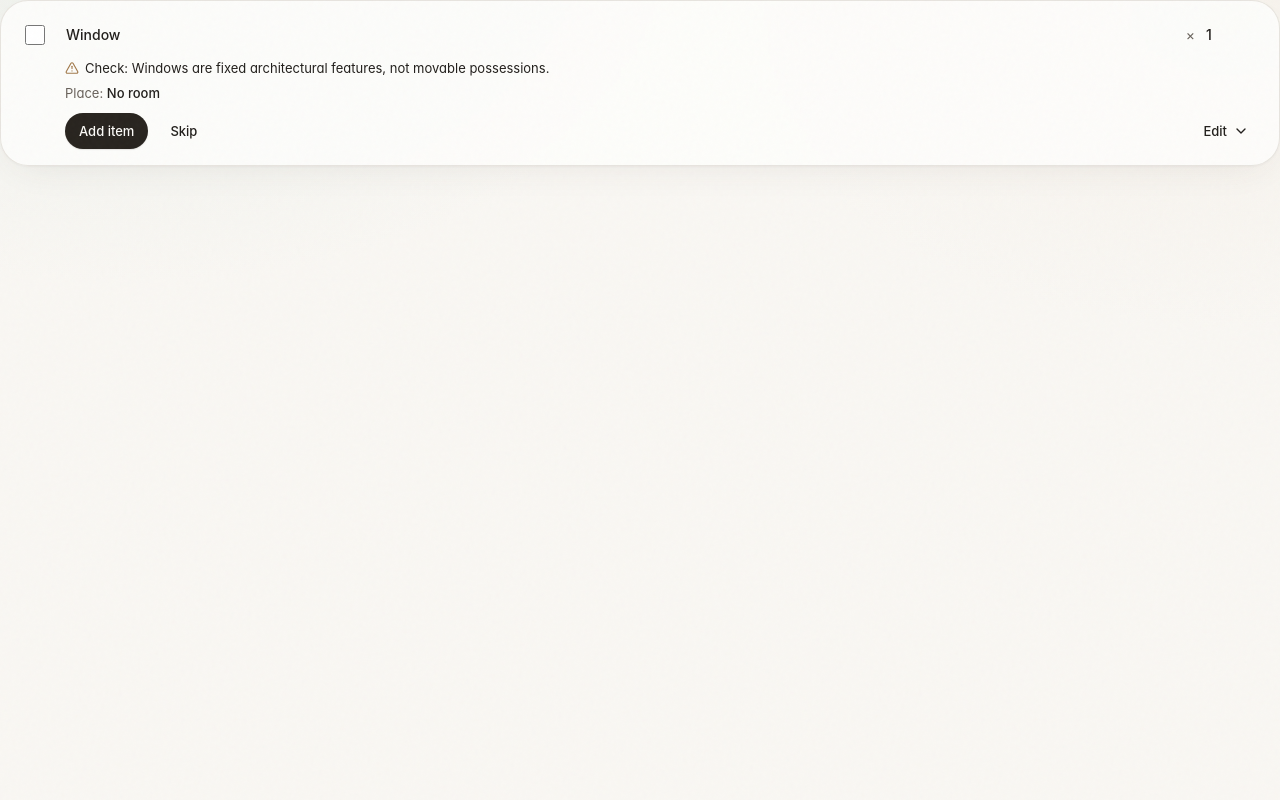
Test: ImportEntryCard closed row › shows the fixed-feature warning without opening the row
Expected: the field labelled "Item name" is not shown
Expected: the button "Add item" is enabled, [65,113,148,149]
// Opened, the full explanation is in the editor, once.
Click the button "Edit". click: {"x": 1226, "y": 131}
box: [1189,113,1263,149]
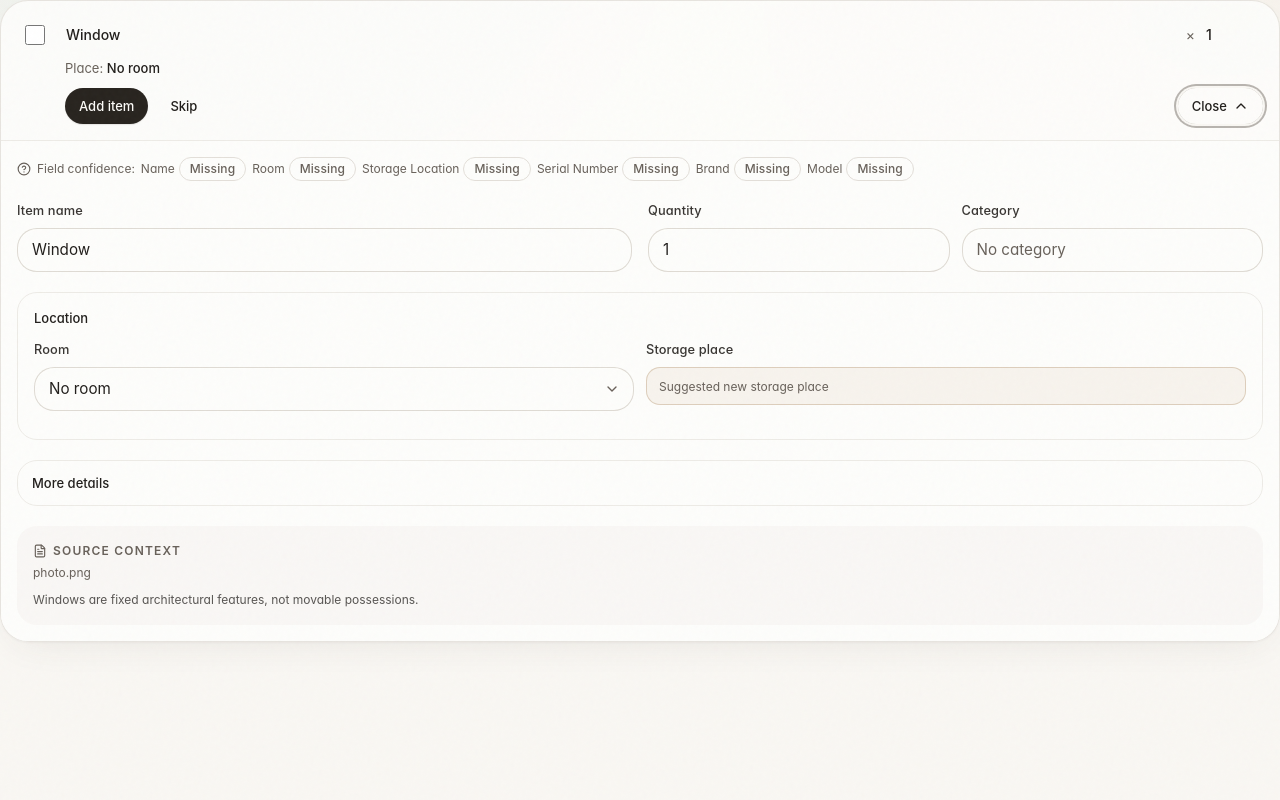
Expected: the text "fixed architectural features" is shown once, [33,592,418,607]
